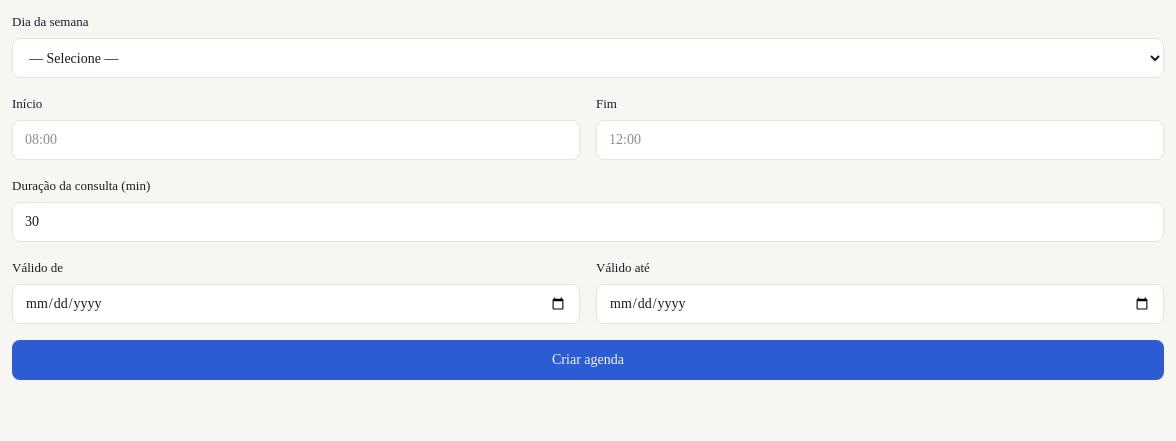
Test: ScheduleForm — create mode › writes the empty-field errors in Portuguese, without exposing enum values
Click the button with test id "schedule-form-submit" at (588, 360), box [12, 340, 1164, 380]
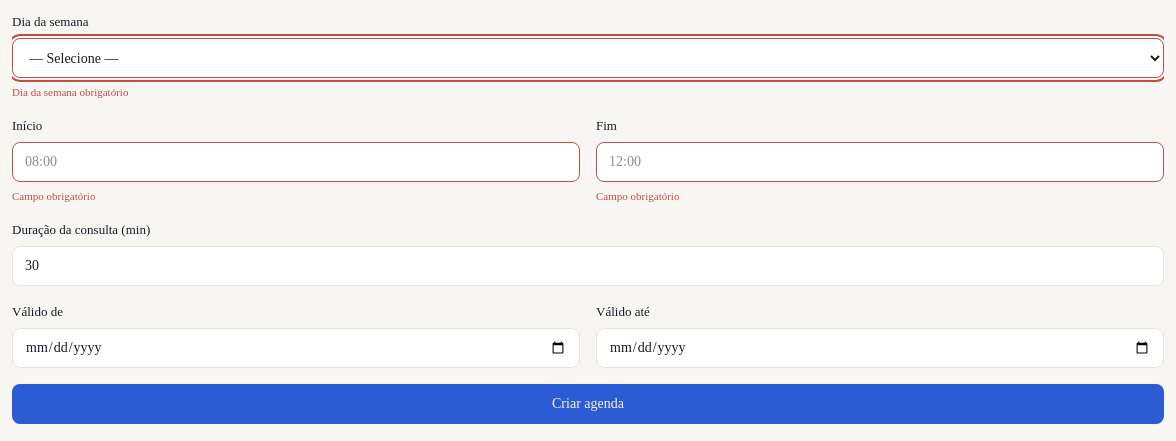
expect the text "Dia da semana obrigatório" is shown: met, box [12, 86, 128, 98]
expect the text "Campo obrigatório" is shown 2 times: met, box [12, 190, 95, 202]; [596, 190, 679, 202]
